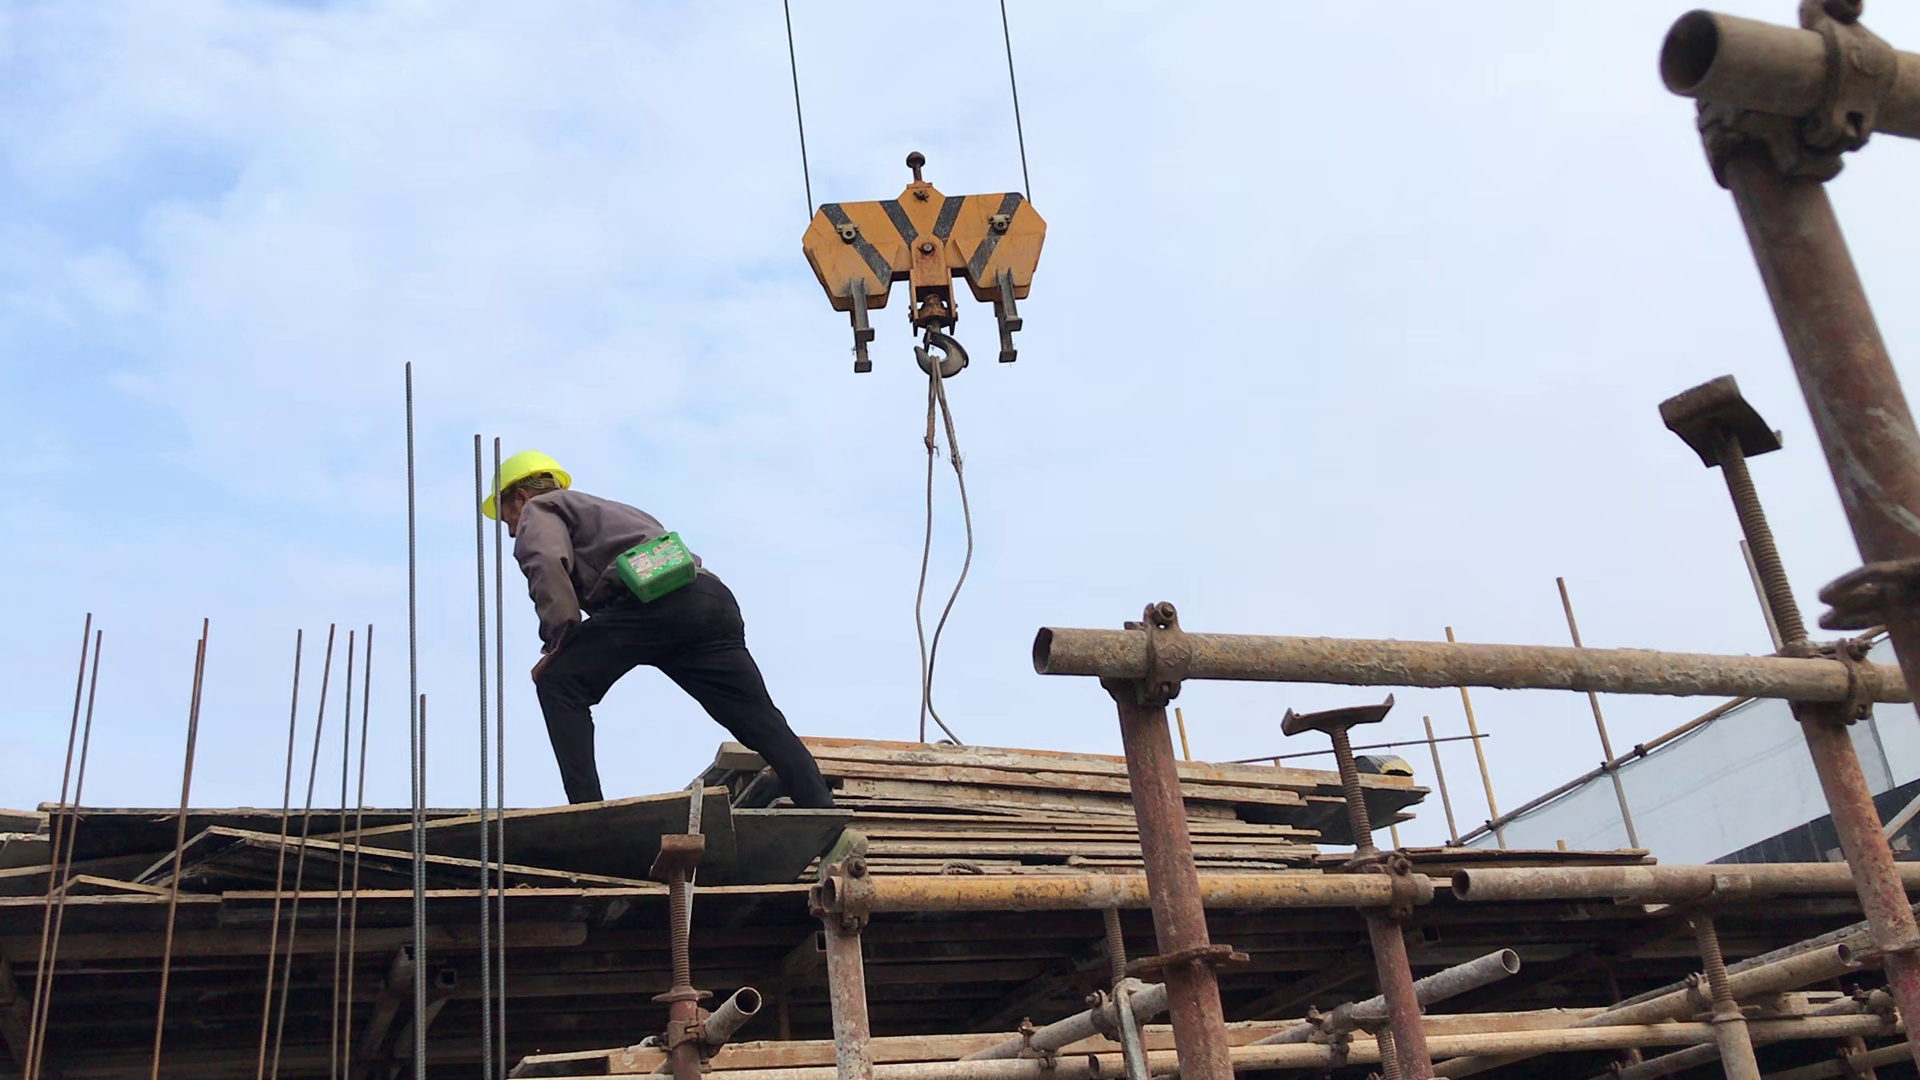board: (815, 724, 1407, 867)
helmet: (467, 452, 577, 508)
hook: (789, 133, 1078, 389)
person: (434, 439, 869, 832)
